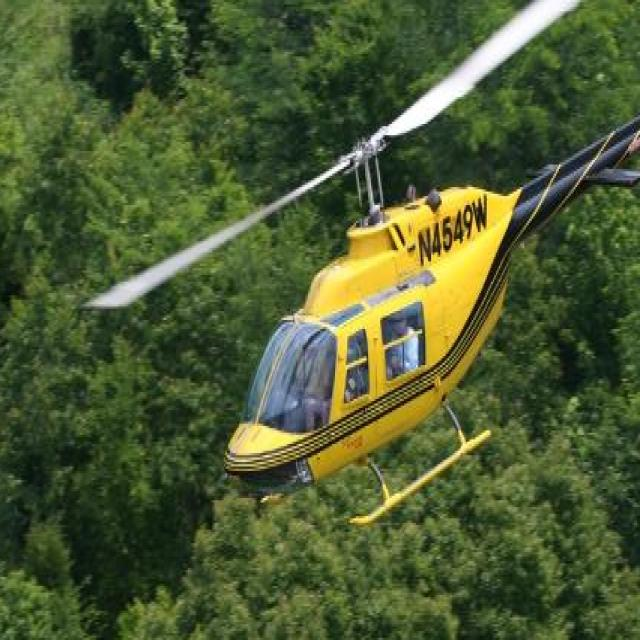helicopter: (76, 1, 640, 558)
